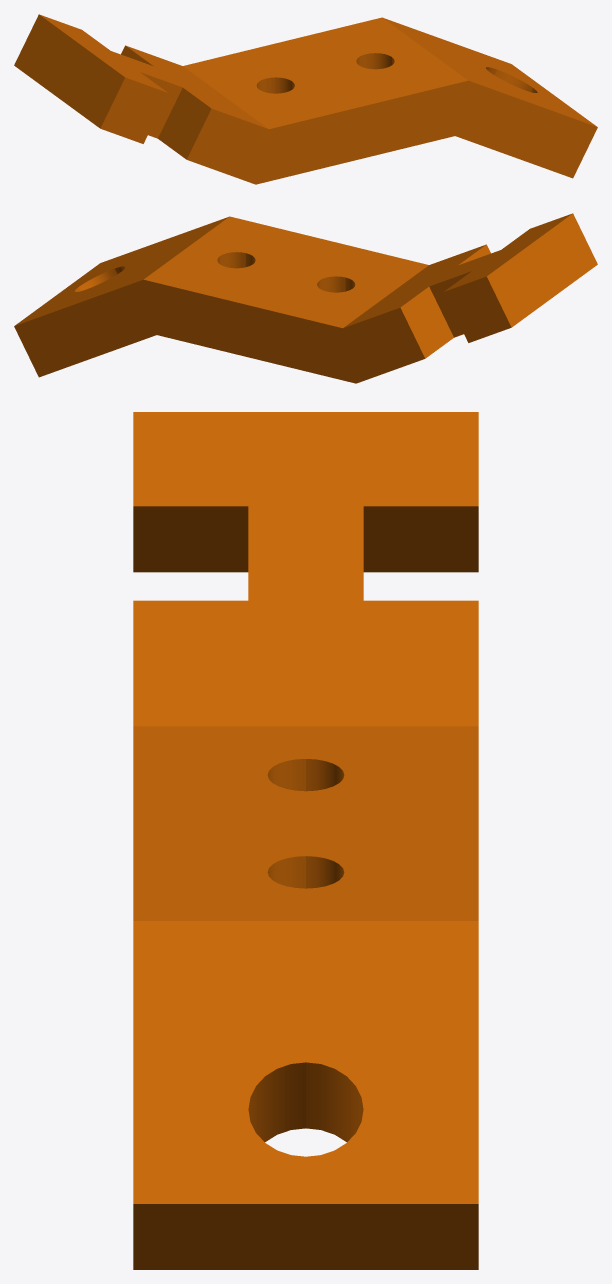
3 views of the same model, one above another, from view 1: azimuth 30°, elevation 25°; view 2: azimuth 150°, elevation 25°; view 3: azimuth 270°, elevation 25° (orthographic). The views are drawn at different scales.
Visible parts, largest first — view 1: SketchUp (×4); view 2: SketchUp (×4); view 3: SketchUp (×4).
Boxes of the visible parts, box(x1,y1,x2,y2) form: SketchUp (×4): box(14, 14, 597, 184); SketchUp (×4): box(14, 213, 597, 383); SketchUp (×4): box(133, 412, 478, 1269).
Size of the model in its own units: 5897 by 1772 by 2382.
